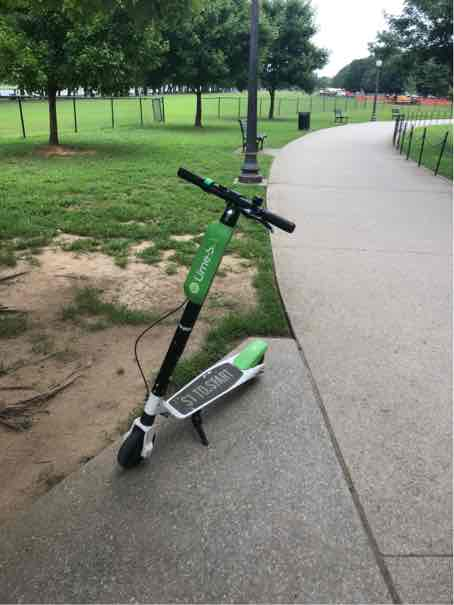scooter: (113, 148, 305, 486)
